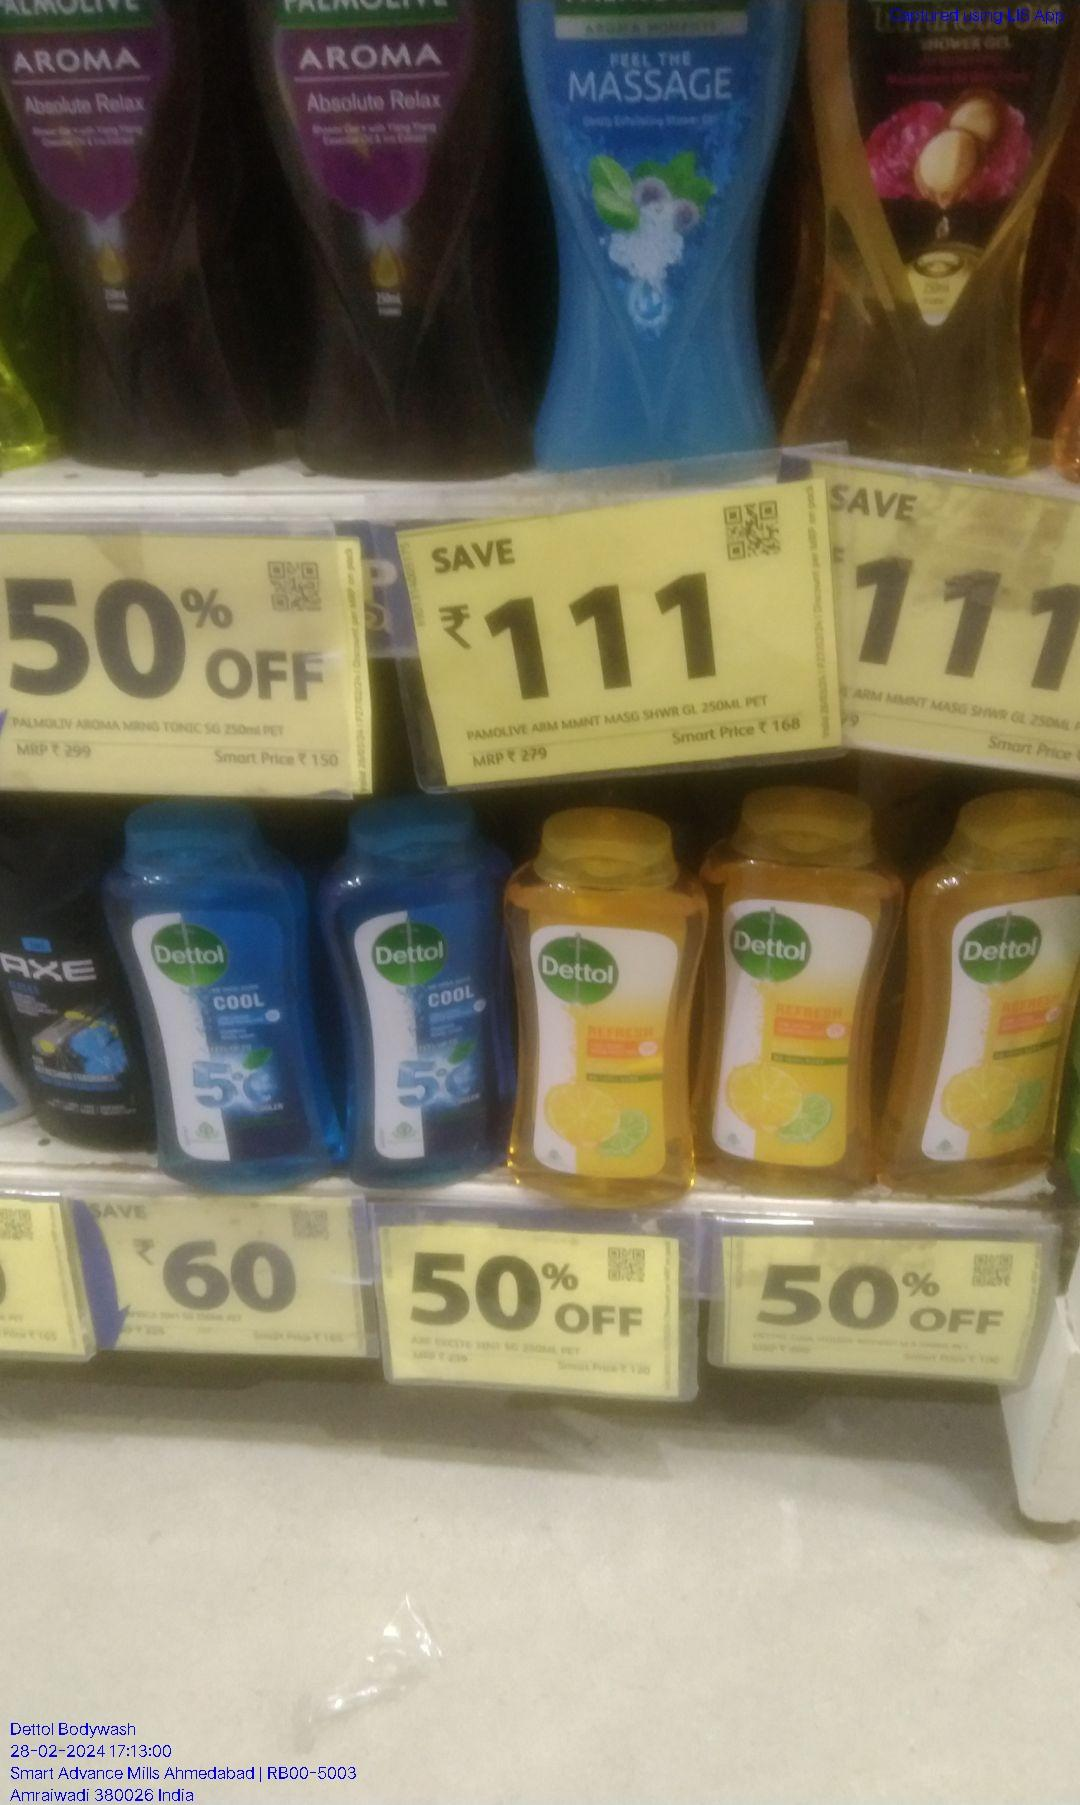Dettol_Bodywash_Cool: (125, 818, 309, 1197), (333, 788, 487, 1189)
Dettol_Bodywash_Refresh: (495, 816, 707, 1212), (720, 778, 887, 1214), (924, 802, 1080, 1228)
